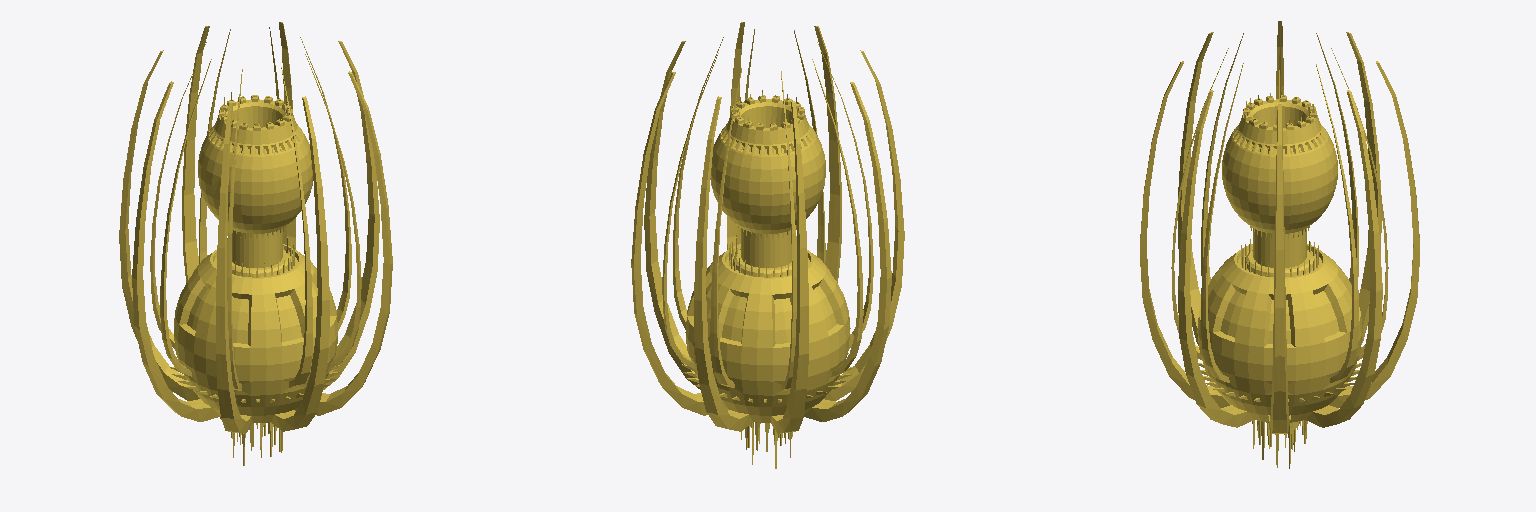
The model's file is babylon.obj.
The picture shows the model from 3 angles: view 1: azimuth 30°, elevation 25°; view 2: azimuth 150°, elevation 25°; view 3: azimuth 270°, elevation 25°; orthographic projection.
Visible parts, largest first — view 1: Sphere01; view 2: Sphere01; view 3: Sphere01.
Boxes of the visible parts, x1=… form: Sphere01: x1=119, y1=22, x2=392, y2=465; Sphere01: x1=631, y1=22, x2=904, y2=468; Sphere01: x1=1140, y1=21, x2=1419, y2=468.
Bounding box in the file's own units: 213 × 349 × 213.